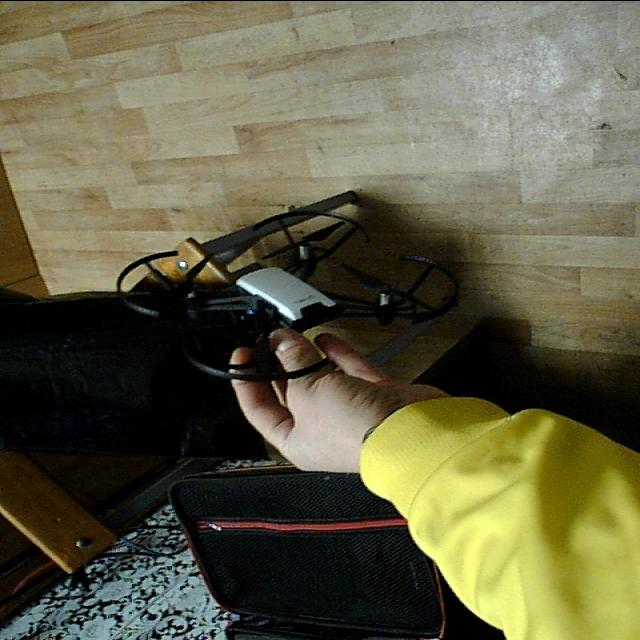drone: (109, 202, 479, 396)
